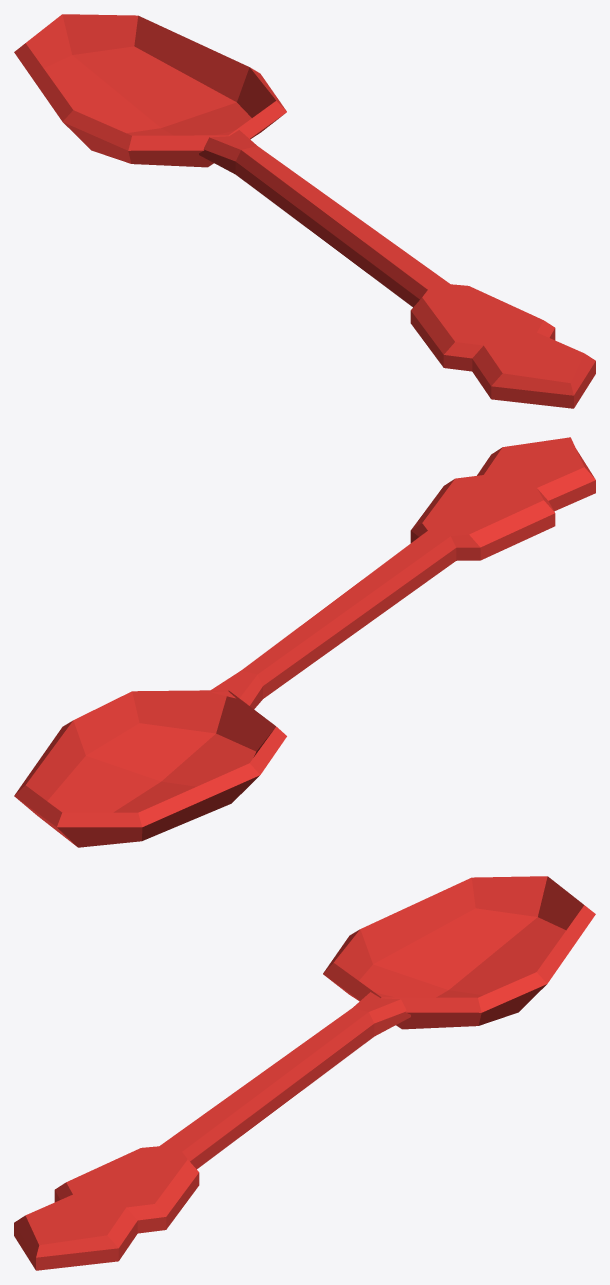
The model's file is SM_Cutlery_Spoon_Christmas.fbx.
The picture shows the model from 3 angles, top to bottom: view 1: azimuth 30°, elevation 25°; view 2: azimuth 150°, elevation 25°; view 3: azimuth 330°, elevation 25°; orthographic projection.
Visible parts, largest first — view 1: cutlery-spoon-christmas; view 2: cutlery-spoon-christmas; view 3: cutlery-spoon-christmas.
Part boxes in pixels (left/top/right/bottom): cutlery-spoon-christmas: left=14, top=14, right=595, bottom=408; cutlery-spoon-christmas: left=14, top=437, right=595, bottom=847; cutlery-spoon-christmas: left=14, top=876, right=595, bottom=1270.
Size of the model in its own units: 0.0598 by 0.0171 by 0.2704.
